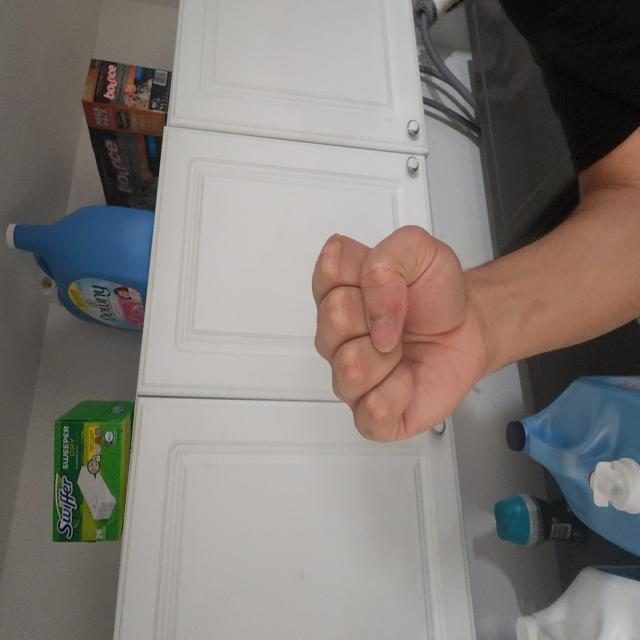S: (146, 412, 315, 640)
